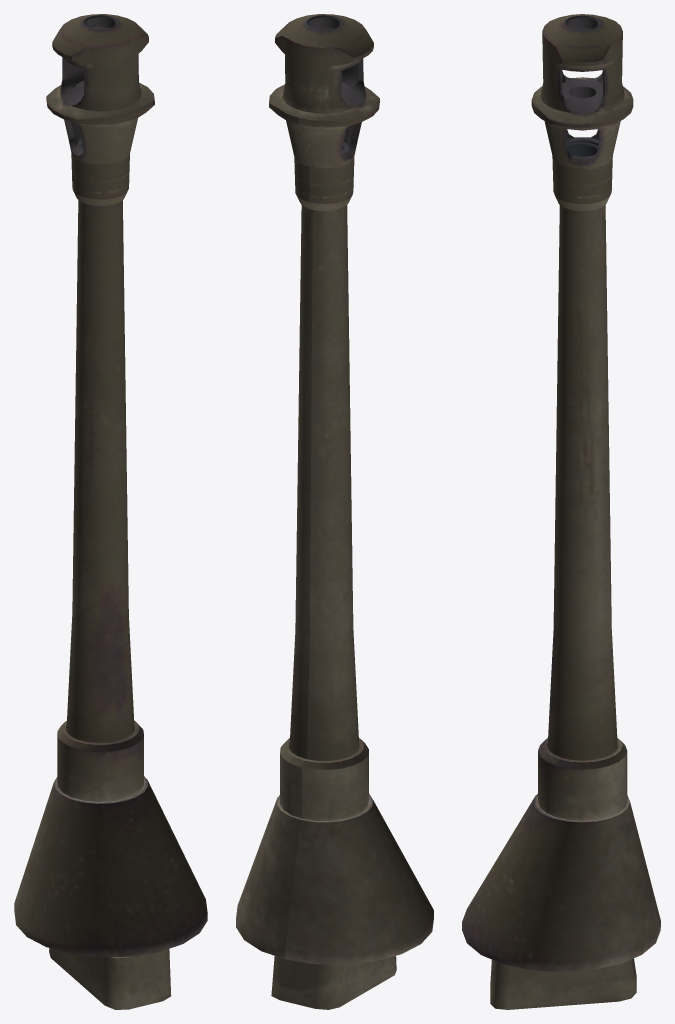
Rendered from Gun_03.glb.
3 views of the same model, side by side, from view 1: azimuth 30°, elevation 25°; view 2: azimuth 150°, elevation 25°; view 3: azimuth 270°, elevation 25° (orthographic). The views are drawn at different scales.
Parts seen in each view (by area): view 1: set_0_group_0; view 2: set_0_group_0; view 3: set_0_group_0.
Boxes of the visible parts, bbox=[...] form: set_0_group_0: bbox=[14, 14, 207, 1009]; set_0_group_0: bbox=[236, 14, 433, 1009]; set_0_group_0: bbox=[462, 14, 660, 1009].
Size of the model in its own units: 0.4627 by 2.5 by 0.4631.
1 material, 1 textured.
